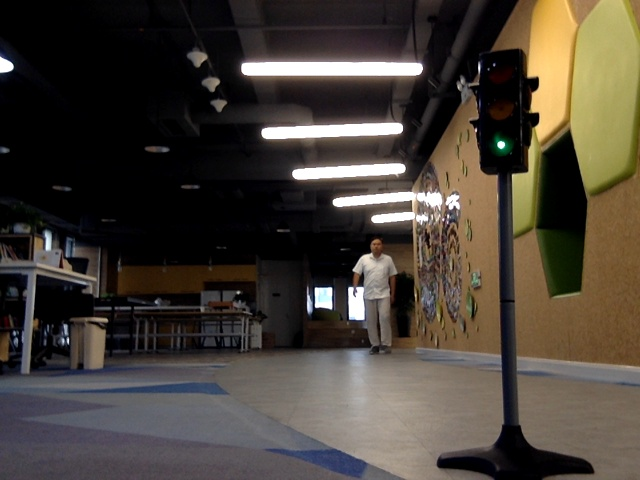green: (480, 58, 519, 168)
